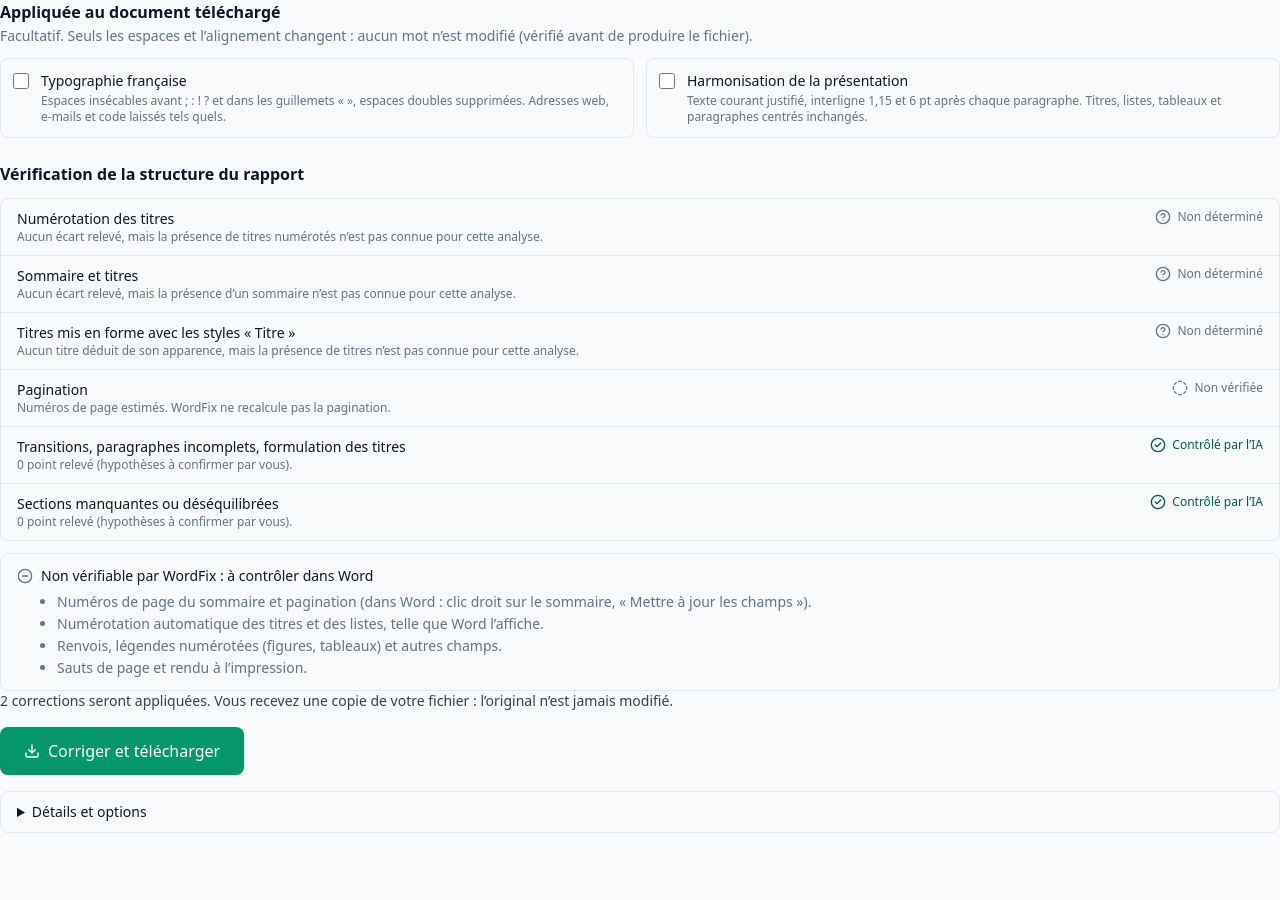
Test: Action principale « Corriger et télécharger » › corrections non appliquées : passage, correction choisie et motif
Click the button "Corriger et télécharger".
click(122, 751)  # box 0,727 -> 244,775
(page scrolled)
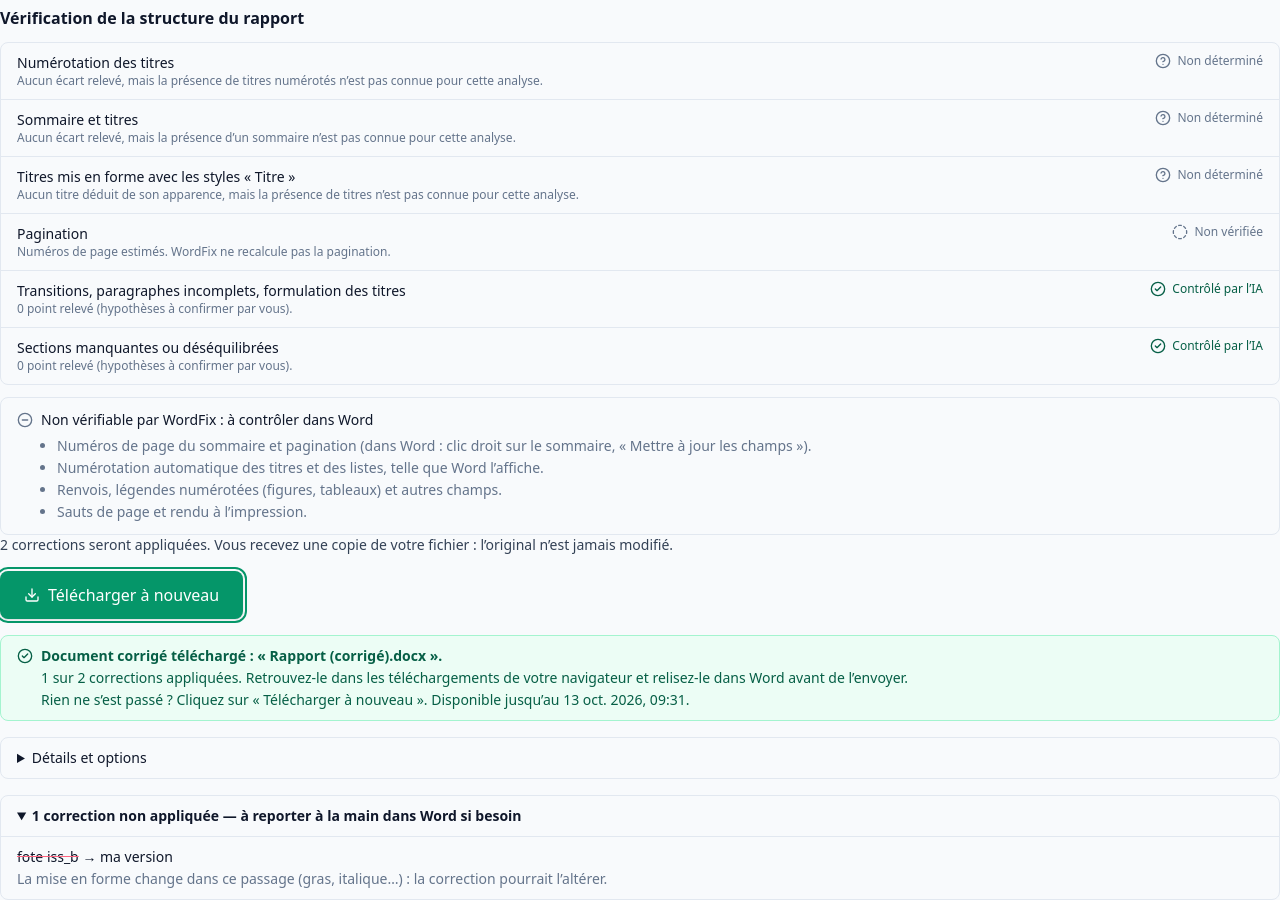
expect the text "1 sur 2 corrections appliquées" is shown: met, box 41,668 -> 242,687
expect the text "1 correction non appliquée" is shown: met, box 32,806 -> 219,825
expect the text "fote iss_b" is shown: met, box 17,847 -> 79,866
